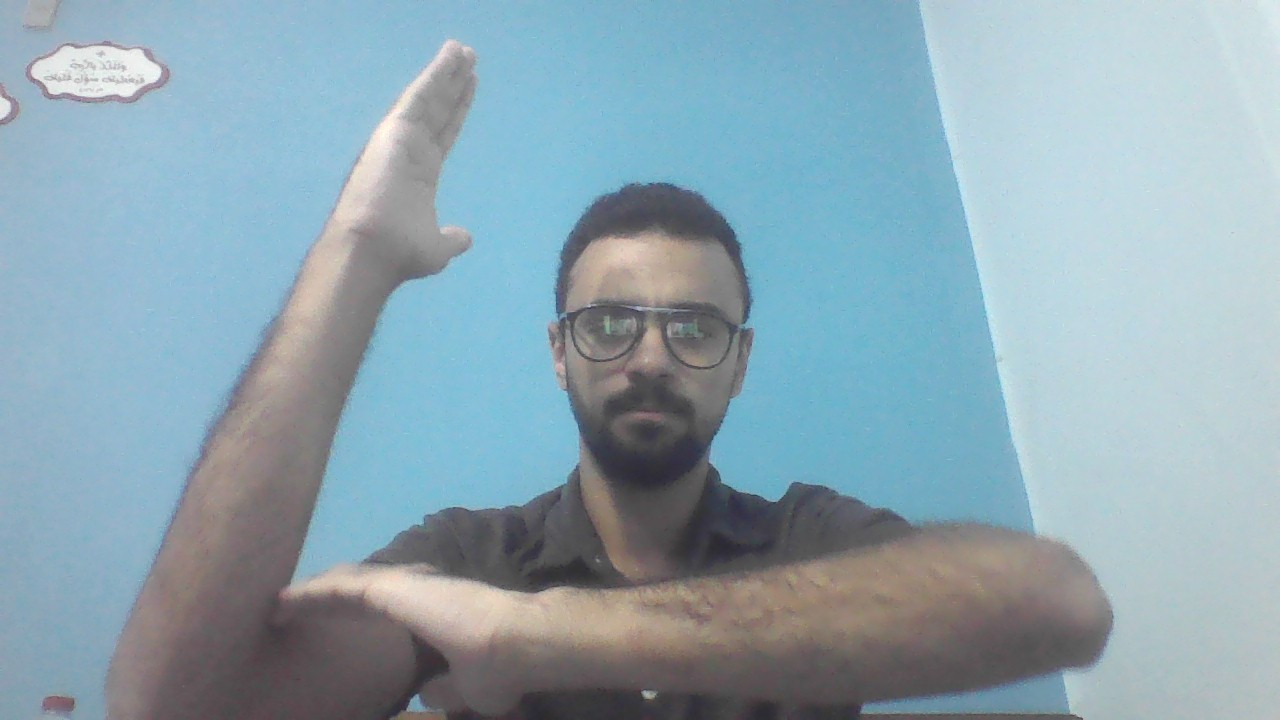morning: (102, 35, 1115, 720)
